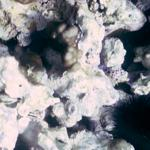dead: (1, 1, 147, 148)
